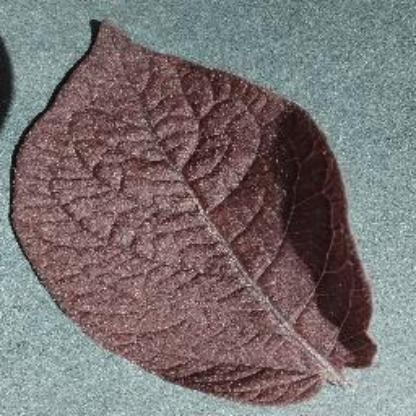Healthy-plant: (9, 14, 387, 406)
